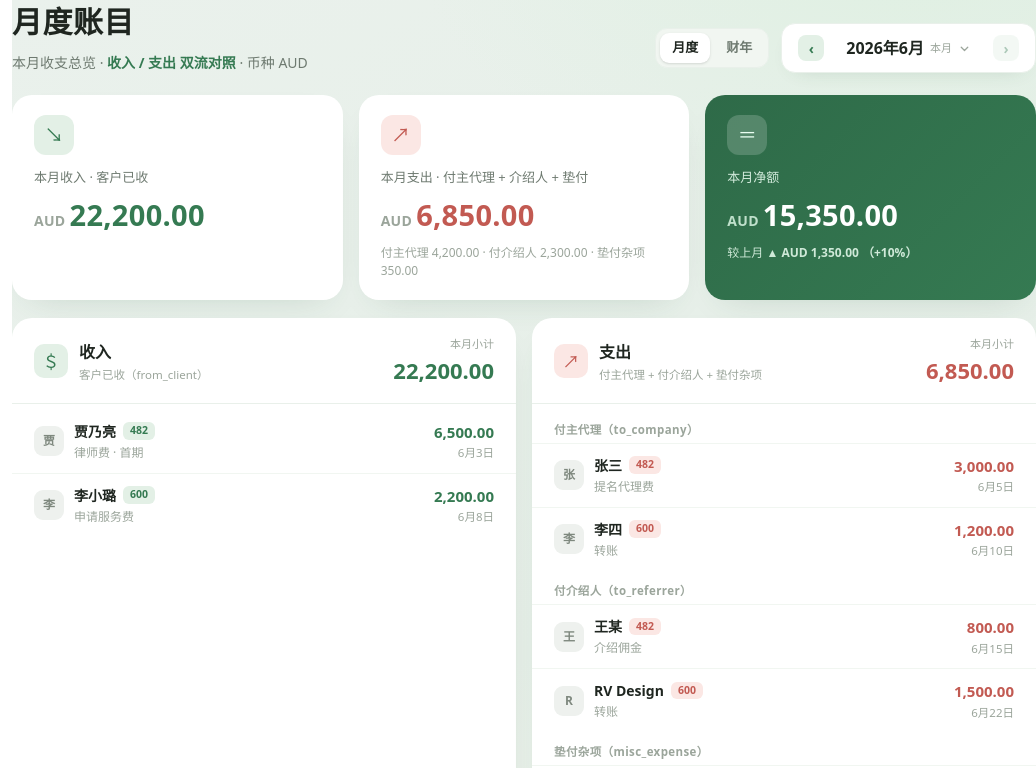
Scenario: FinancePage · 财年模式（月度 / 财年 段控） › ‹ 切上一财年：2024–25 财年、无本财年 chip、取数 endYear=2025；› 切回
The width and height of the screenshot is (1036, 768).
Click the button "财年": (739, 48) top-left (714, 33), bottom-right (764, 63)
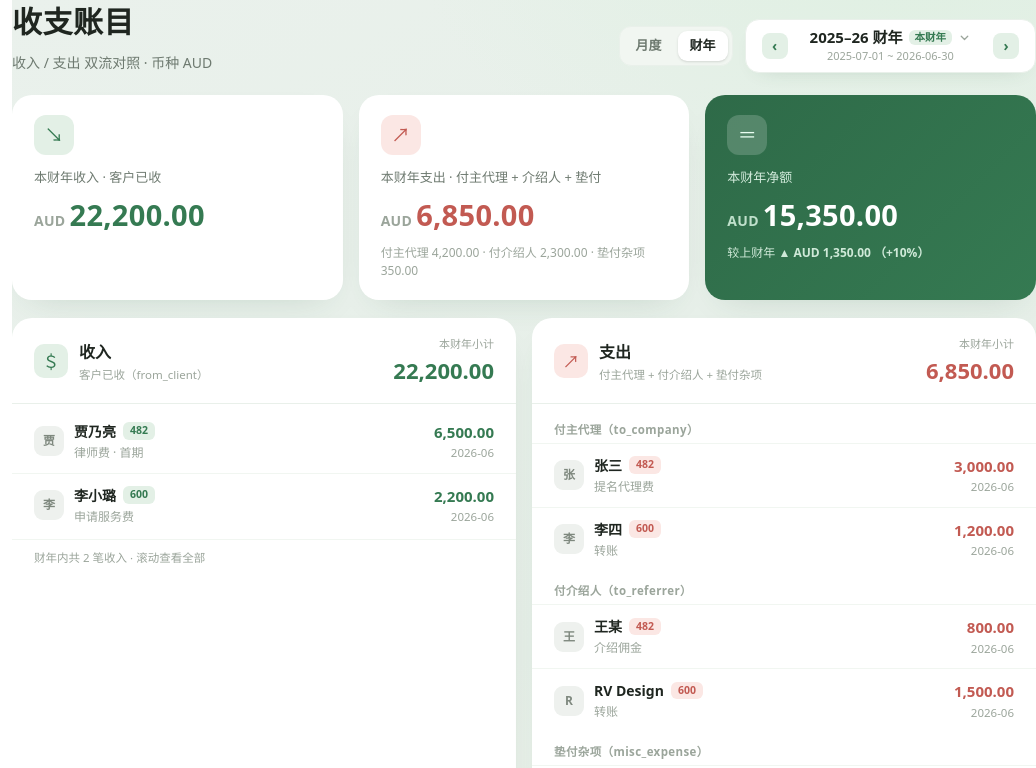
Click the button named "上一财年": (775, 46) top-left (762, 33), bottom-right (788, 59)
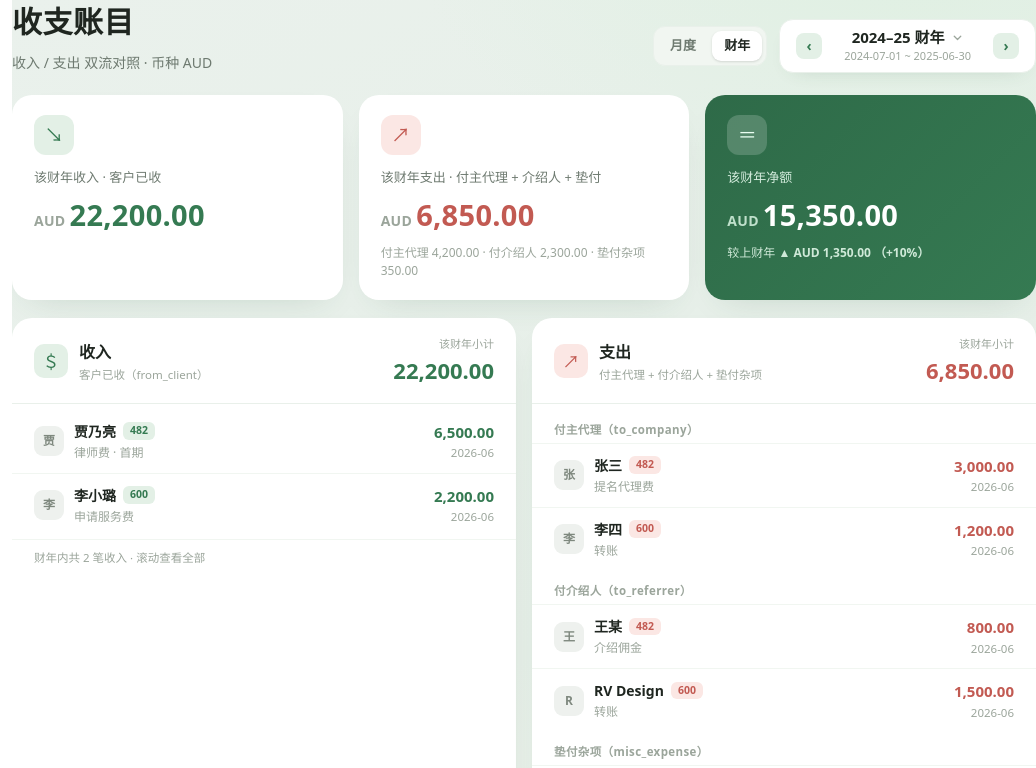
Expected: the text "2024–25 财年" is shown, top-left (852, 28), bottom-right (964, 47)
Expected: the text "2024-07-01 ~ 2025-06-30" is shown, top-left (844, 48), bottom-right (971, 64)
Expected: the text "本财年" is gone
Click the button named "下一财年": (1006, 46) top-left (993, 33), bottom-right (1019, 59)
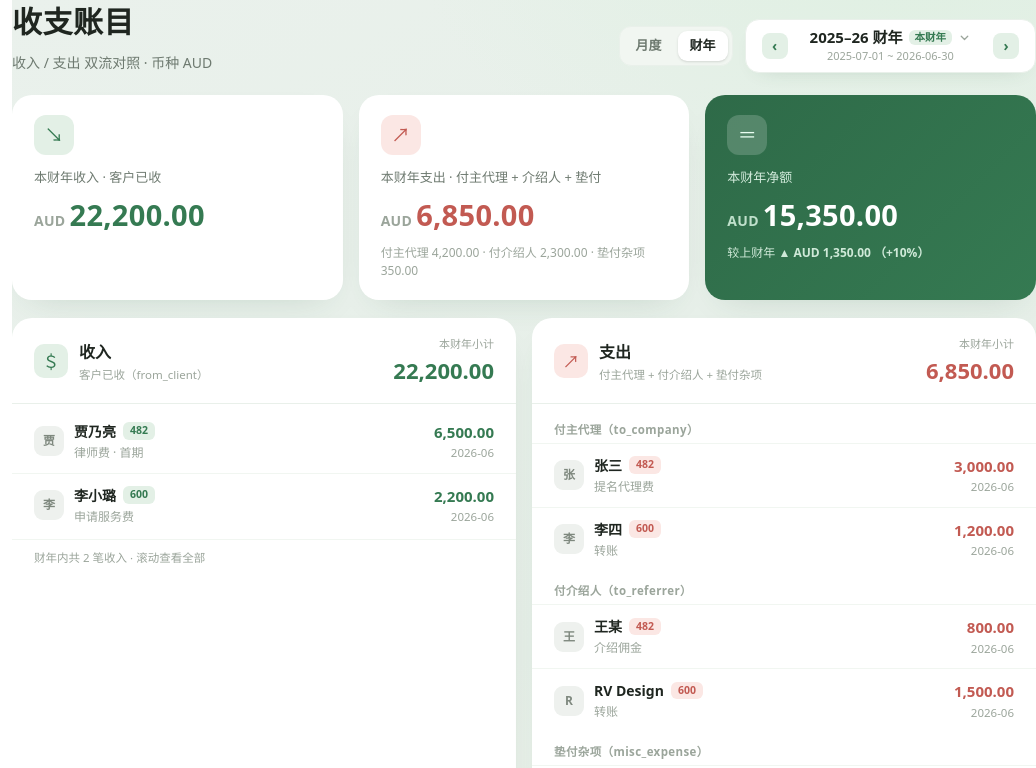
Expected: the text "2025–26 财年" is shown, top-left (810, 27), bottom-right (902, 47)
